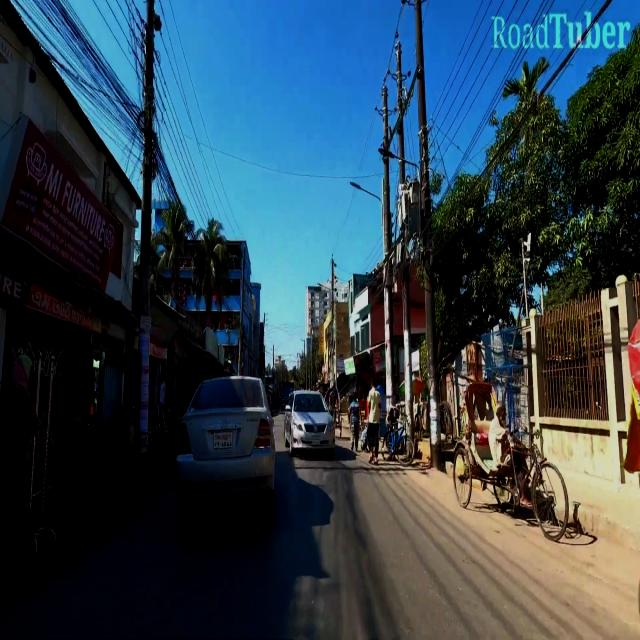silver: (281, 376, 345, 473)
white: (170, 372, 281, 515)
